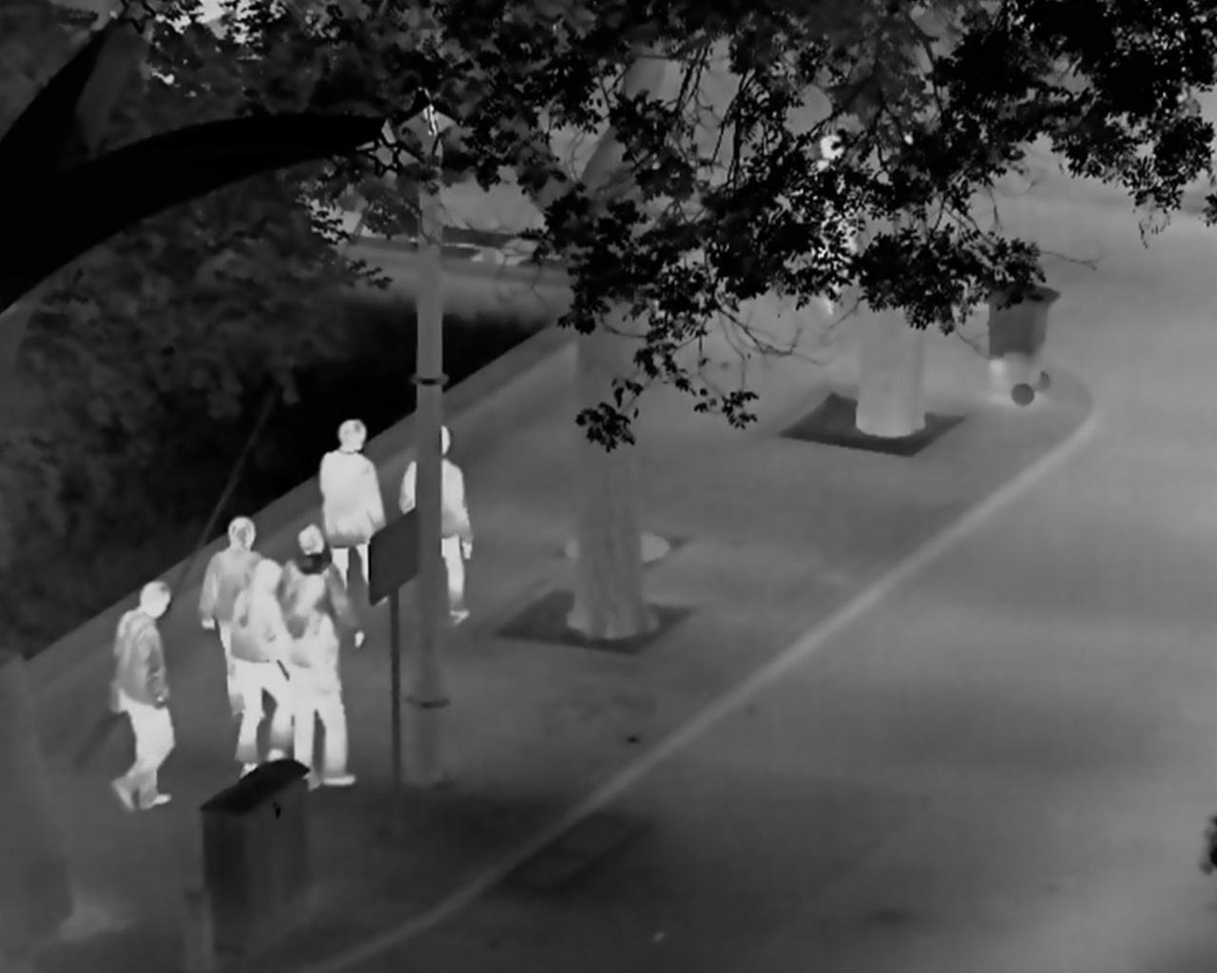person: (106, 581, 180, 812), (280, 573, 358, 791), (396, 421, 478, 626), (314, 417, 395, 605), (229, 559, 298, 778), (200, 515, 271, 718), (280, 525, 370, 646), (802, 135, 856, 318)
